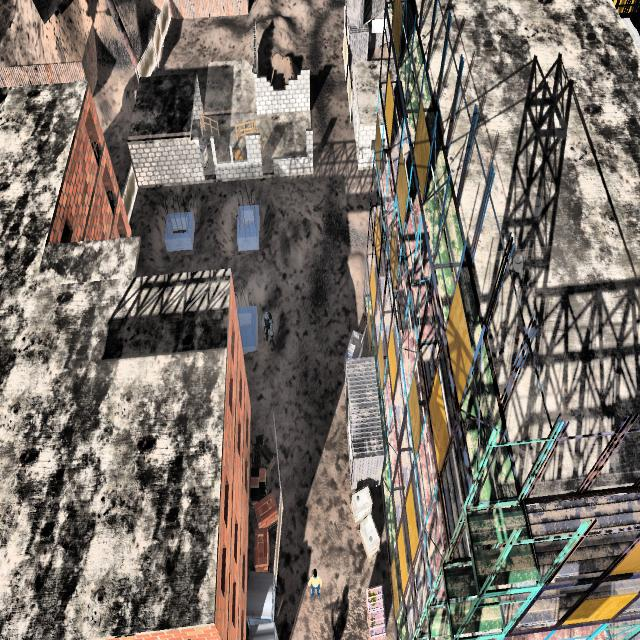bad: (259, 301, 277, 349)
good: (303, 555, 325, 603)
